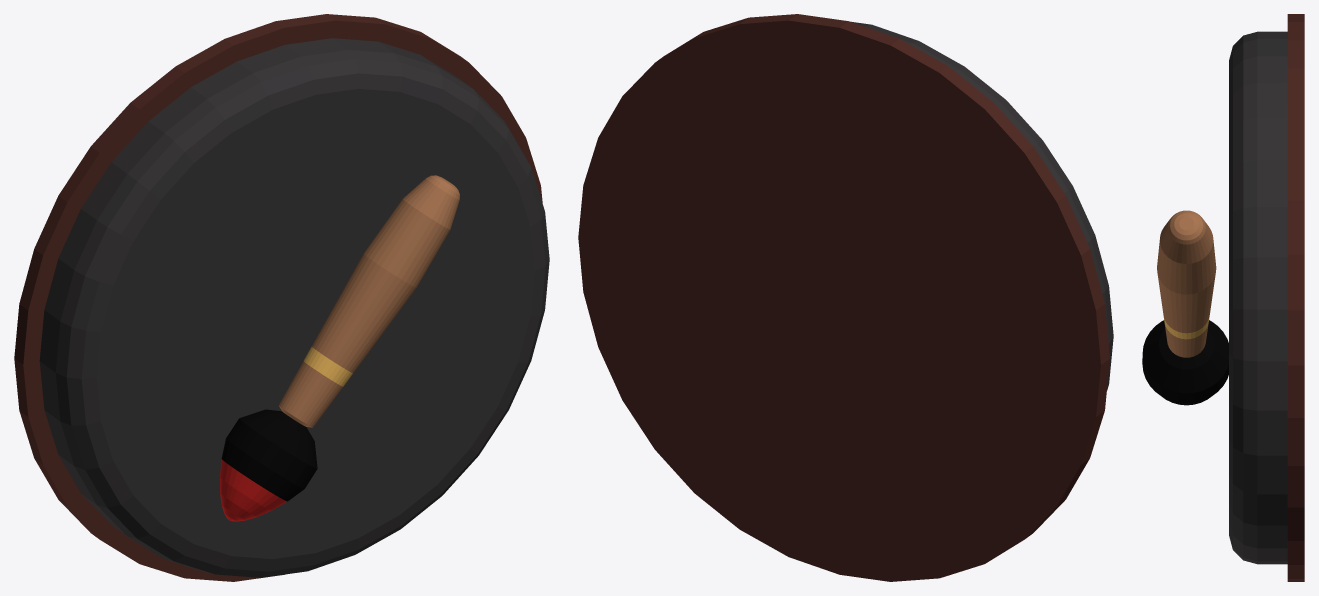
File: PaintButtonNormal.glb
The picture shows the model from 3 angles, left to right: view 1: azimuth 30°, elevation 25°; view 2: azimuth 150°, elevation 25°; view 3: azimuth 270°, elevation 25°; orthographic projection. The views are drawn at different scales.
Visible parts, largest first — view 1: Cylinder, Cylinder.002; view 2: Cylinder; view 3: Cylinder, Cylinder.002.
Boxes of the visible parts, x1=… form: Cylinder: x1=14, y1=14, x2=549, y2=581; Cylinder.002: x1=220, y1=175, x2=459, y2=521; Cylinder: x1=578, y1=14, x2=1113, y2=581; Cylinder: x1=1229, y1=14, x2=1304, y2=581; Cylinder.002: x1=1142, y1=210, x2=1228, y2=405.
Size of the model in its own units: 1 by 1 by 0.2853.
